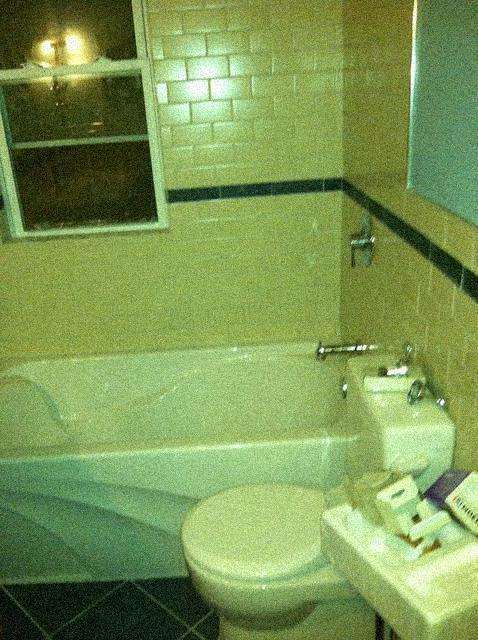Sanitario: (178, 340, 452, 636)
